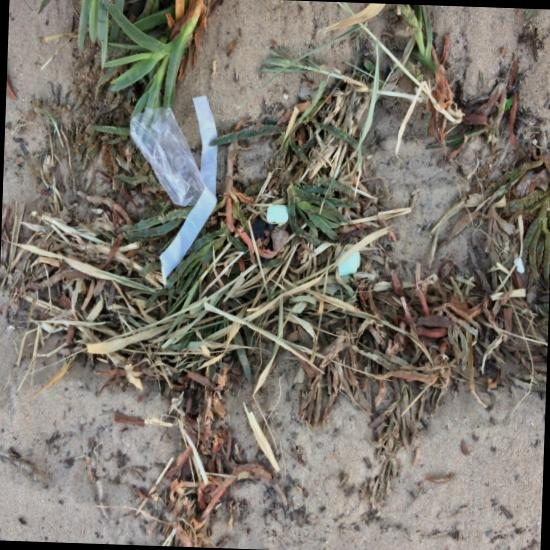Plastic film: (161, 96, 218, 285), (130, 107, 204, 207)
Styrofoam piece: (338, 252, 360, 276), (267, 205, 288, 225)
Unlabeled litter: (514, 257, 524, 273)
